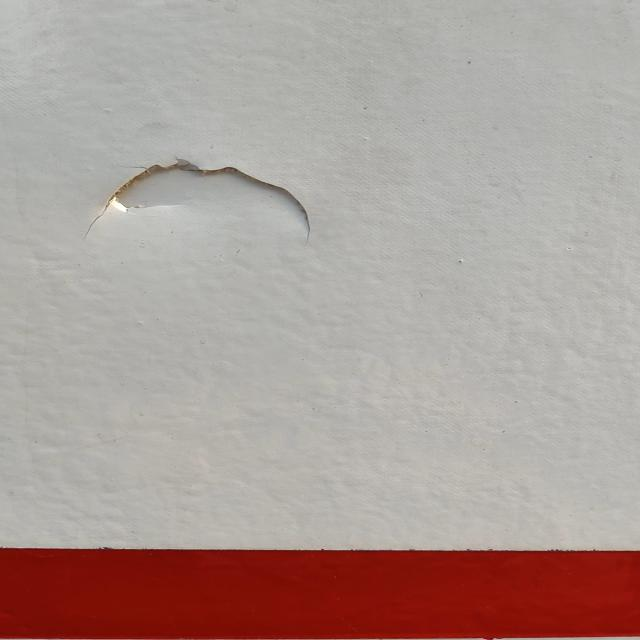Scratches: (65, 140, 339, 250)
